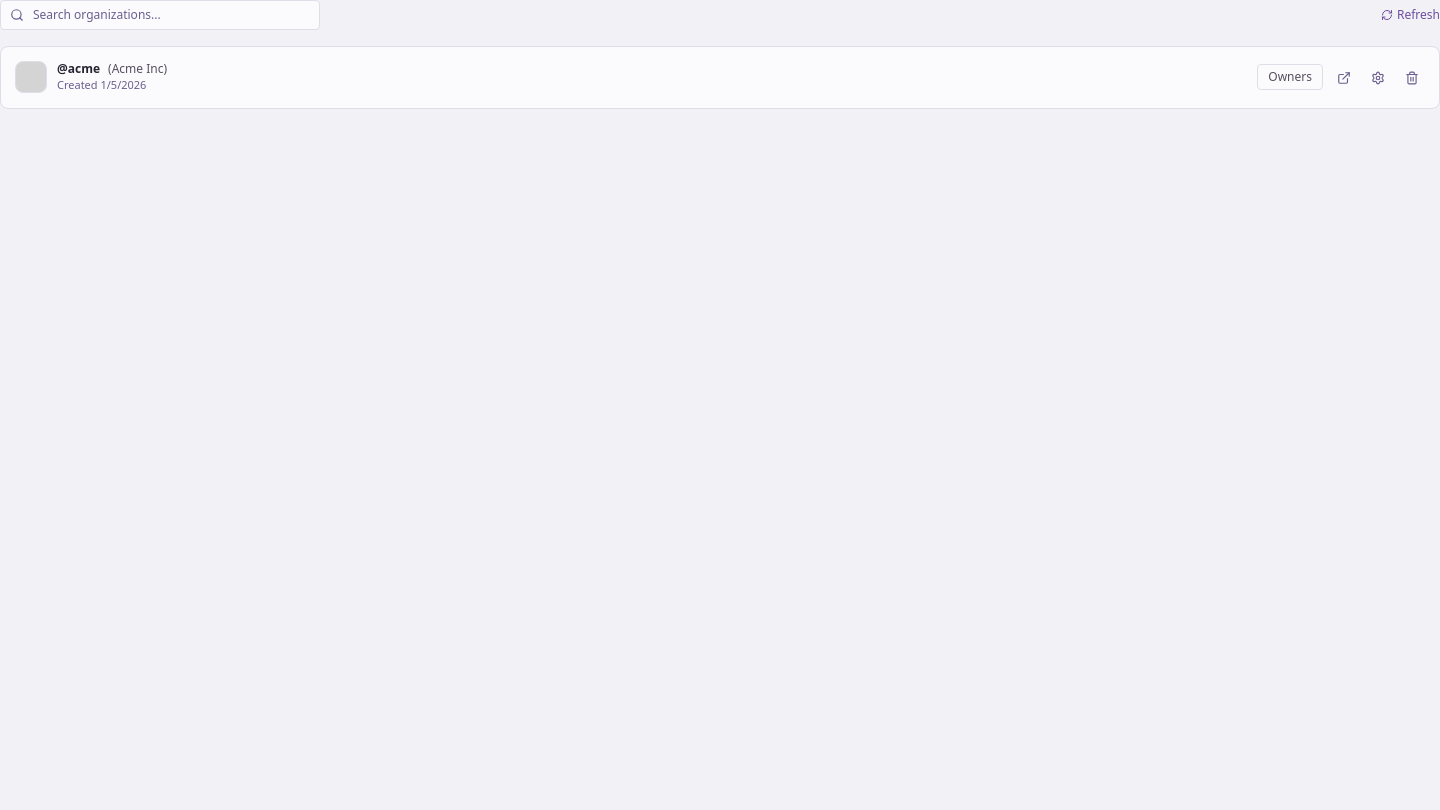
Test: OrganizationsPanel › deletes an organization once the cascade is confirmed
Expected: the text "@acme" is shown, [57,61,100,77]
Click the button named "Permanently delete @acme": (1412, 77) [1399,63,1425,91]
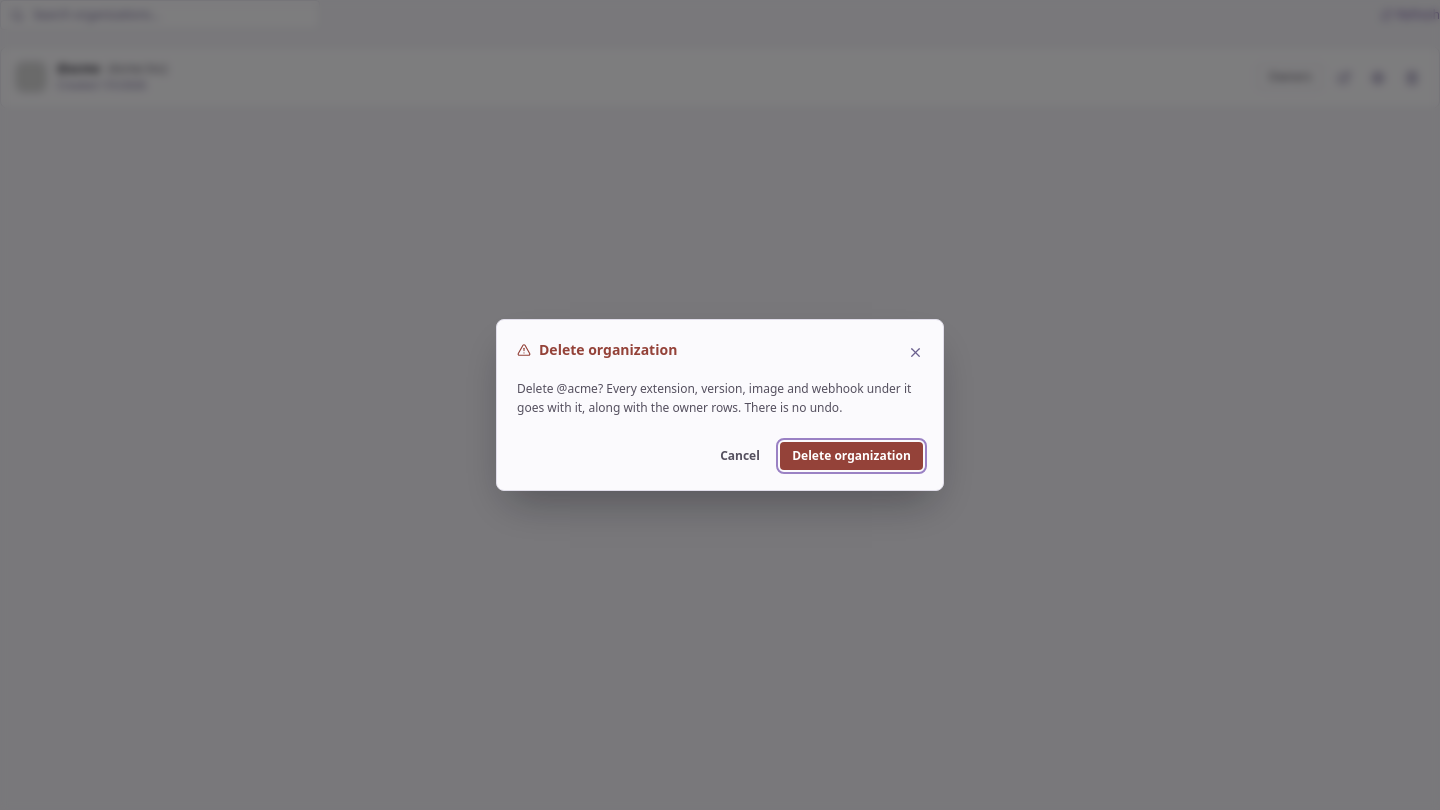
Now the dialog shows "Every extension, version, image and webhook", box [517,380,911,416]
Click the button "Delete organization": (852, 456) [780,442,923,470]
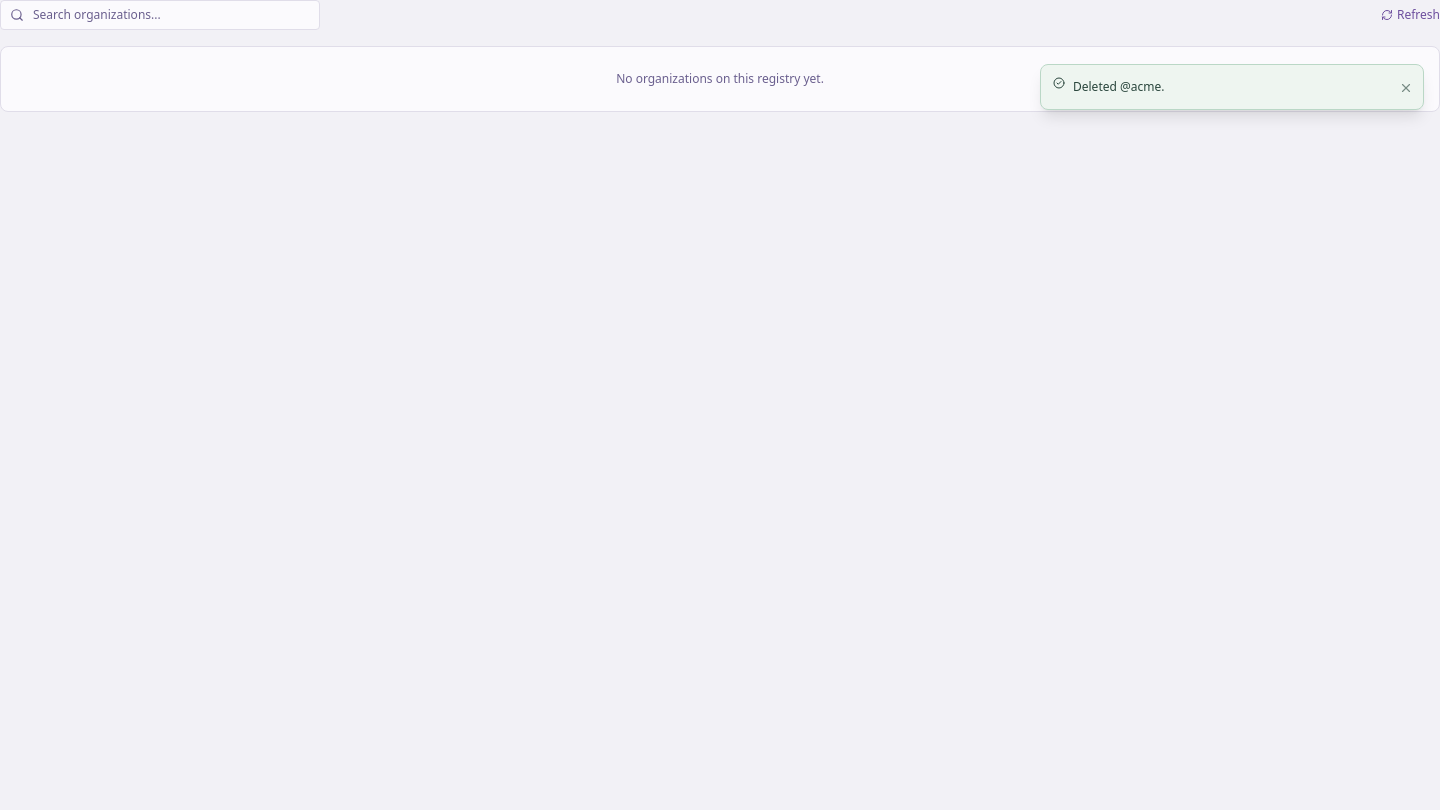
Now the text "Deleted @acme." is shown, box [1073,78,1164,95]
